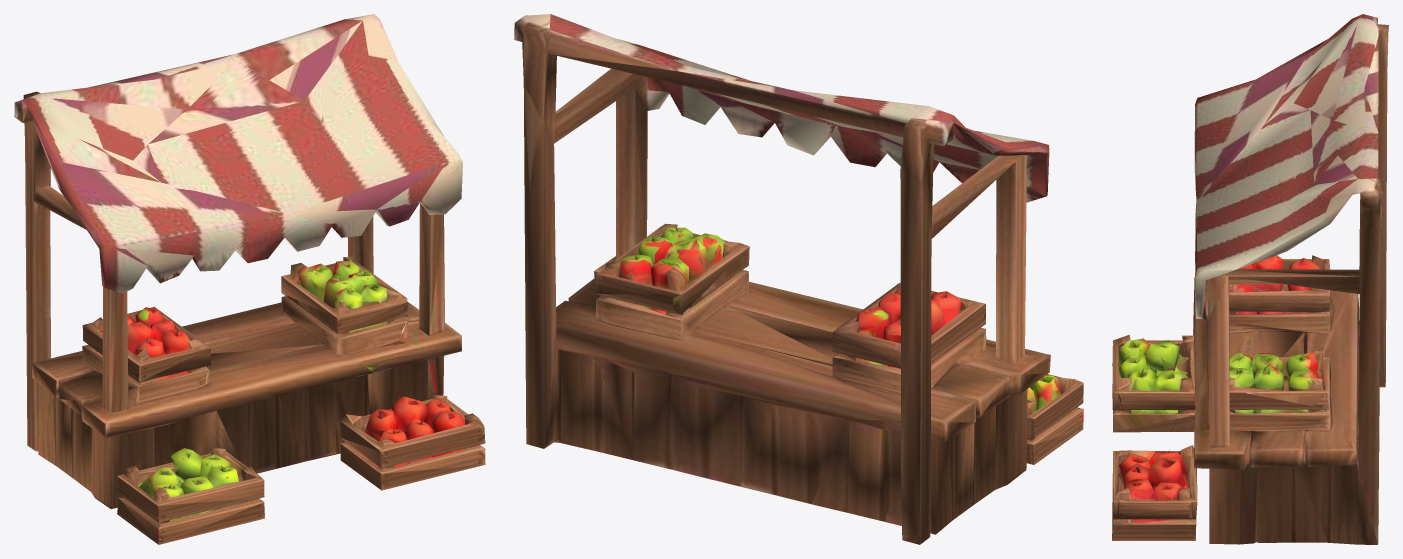
File: stall.glb
The picture shows the model from 3 angles, left to right: view 1: azimuth 30°, elevation 25°; view 2: azimuth 150°, elevation 25°; view 3: azimuth 270°, elevation 25°; orthographic projection. The views are drawn at different scales.
Visible parts, largest first — view 1: stall; view 2: stall; view 3: stall.
Boxes of the visible parts, x1=… form: stall: x1=14, y1=14, x2=485, y2=544; stall: x1=514, y1=14, x2=1083, y2=544; stall: x1=1112, y1=14, x2=1388, y2=544.
Bounding box in the file's own units: 2.97 × 2.79 × 1.93.
Materials: 1 (1 with a texture image).
